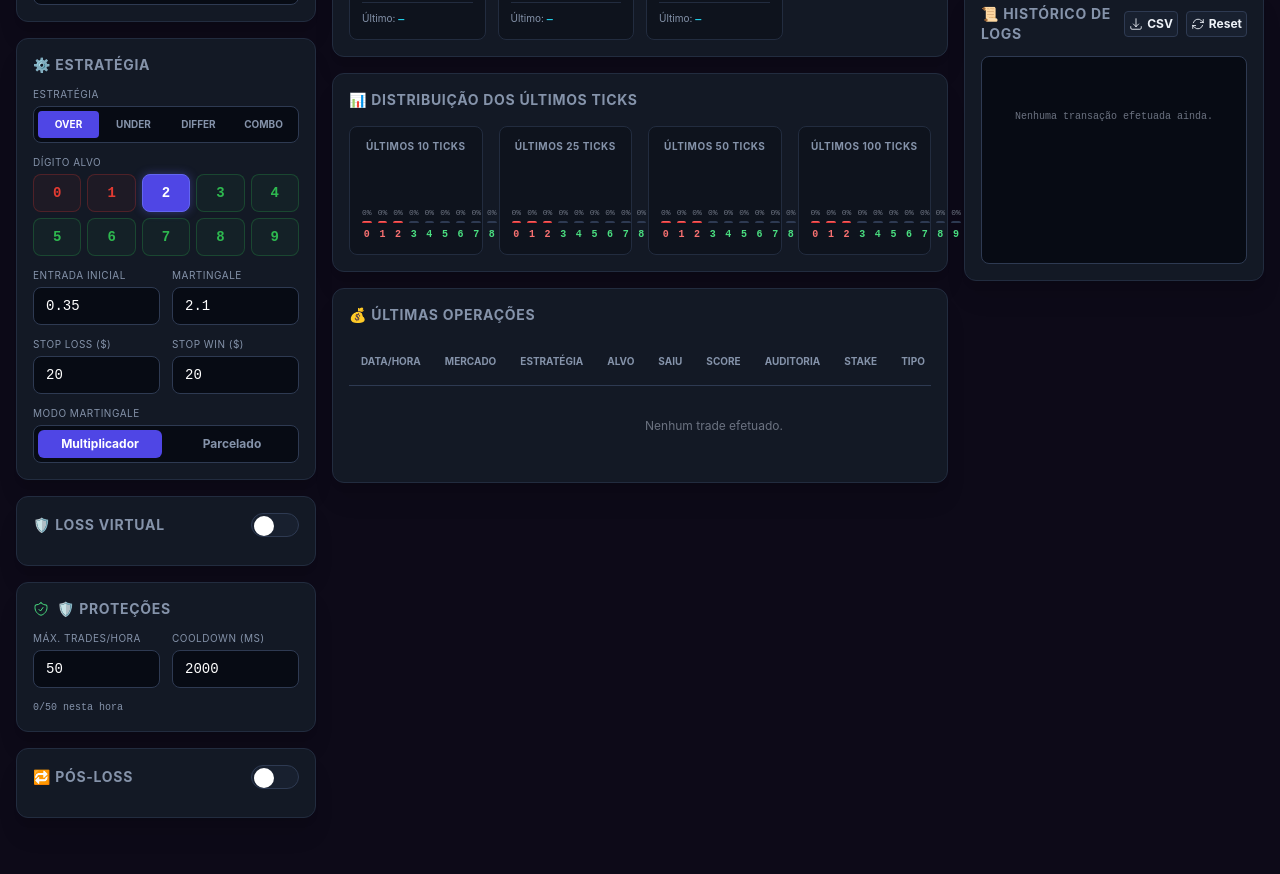
Scenario: BearBotUltra 2.0 — Bloco Pós-Loss (Card & Funcionalidades) › 3. Modo "Recuperar" exibe os campos e avisos corretos
The width and height of the screenshot is (1280, 874).
(page scrolled)
Click the button without text next to "🔁 PÓS-LOSS" at (275, 776), box [251,764,299,788]
(page scrolled)
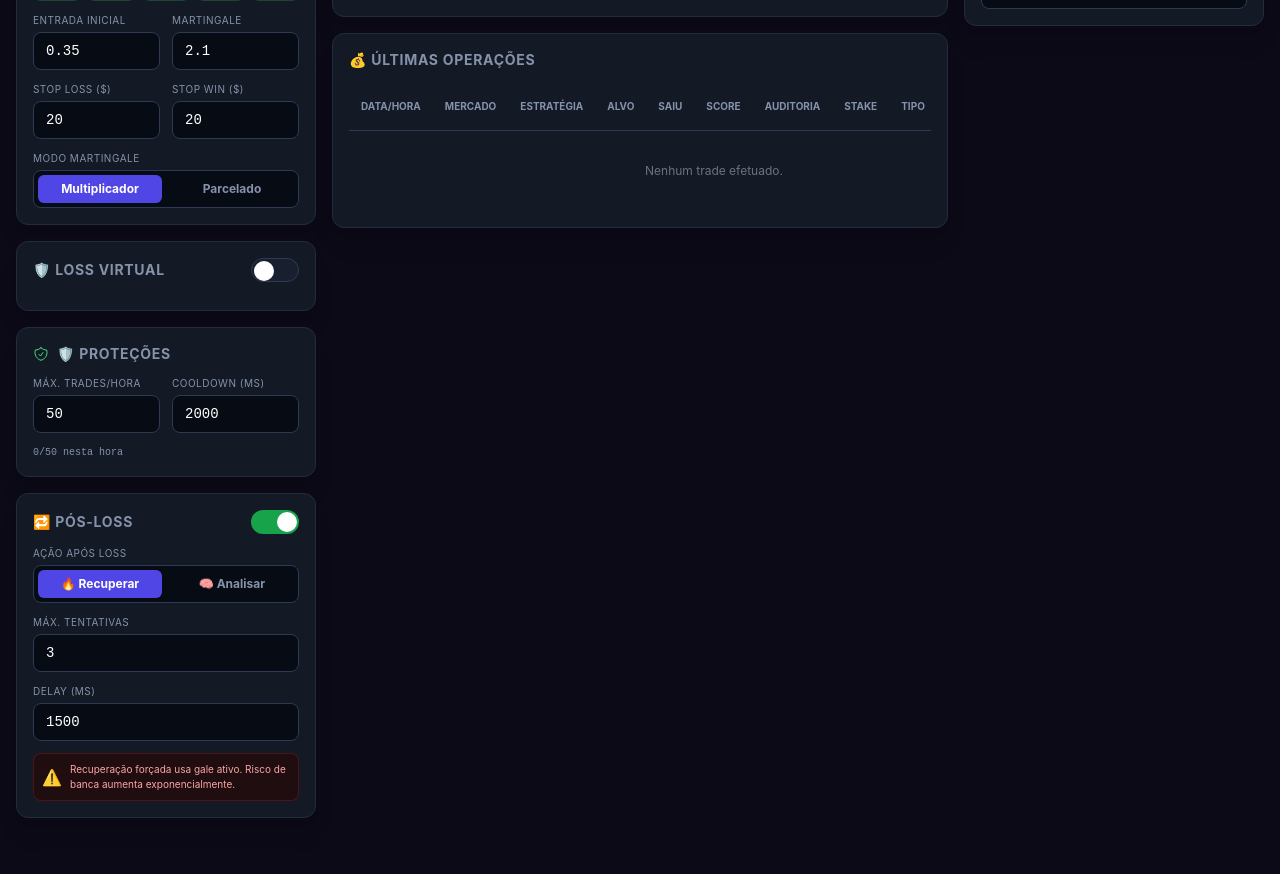
Result: the text "Máx. tentativas" is shown at [33,616,129,628]
Result: the text "Delay (ms)" is shown at [33,684,95,696]
Result: the text "Recuperação forçada usa gale ativo" is shown at [70,762,286,790]
